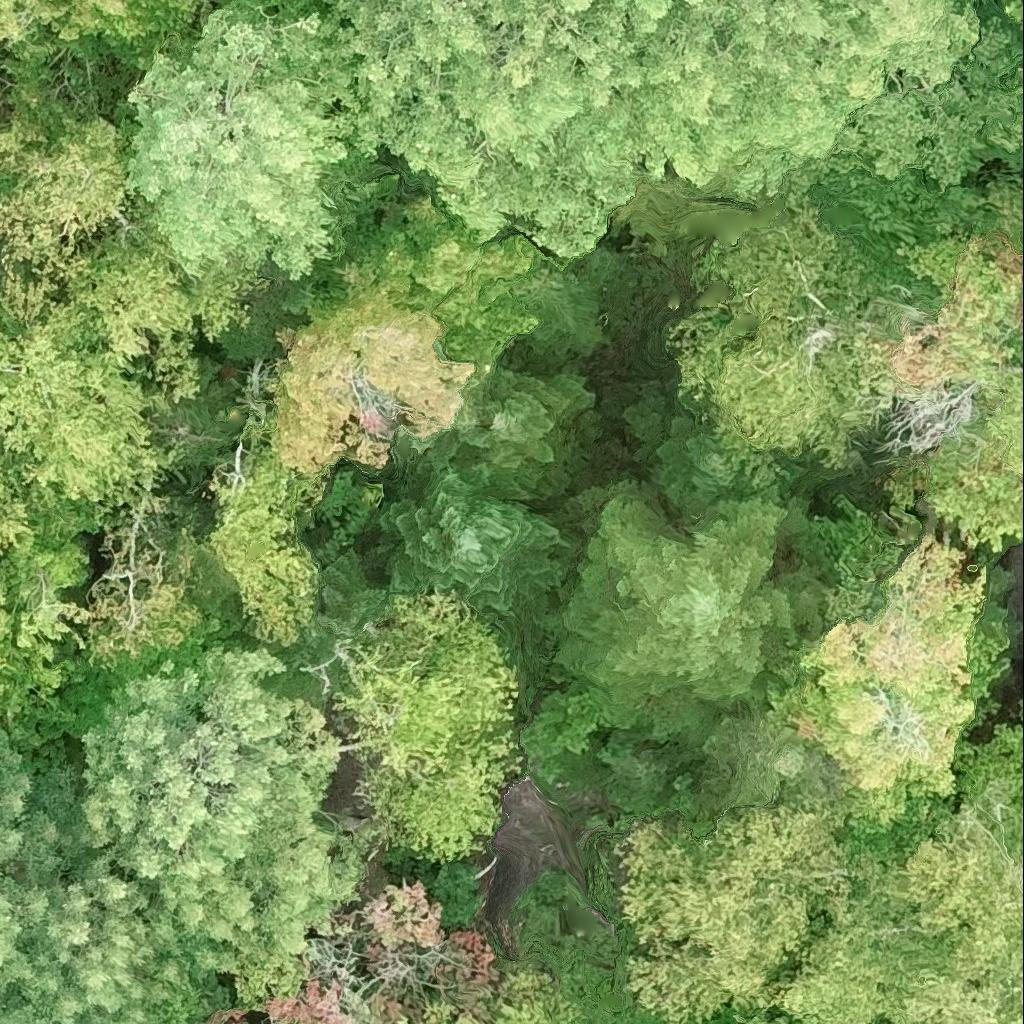crown: (265, 0, 1023, 270), (78, 648, 354, 950), (527, 471, 839, 738), (665, 211, 948, 485), (126, 10, 364, 281), (617, 793, 883, 1023), (331, 588, 524, 861), (56, 186, 257, 402), (0, 743, 155, 1023), (0, 266, 176, 509), (336, 196, 563, 383), (262, 280, 475, 472), (370, 463, 568, 612), (877, 780, 1023, 981), (0, 64, 130, 278), (213, 423, 331, 638), (776, 884, 949, 1023), (425, 366, 601, 502), (357, 876, 509, 1015), (623, 399, 804, 514), (238, 936, 433, 1023), (0, 0, 212, 72), (393, 969, 627, 1023), (525, 251, 614, 356), (897, 968, 1023, 1023), (954, 725, 1023, 801), (0, 456, 34, 554), (146, 998, 246, 1023), (0, 142, 17, 210), (0, 601, 11, 705), (0, 573, 4, 596), (1021, 700, 1023, 720)
